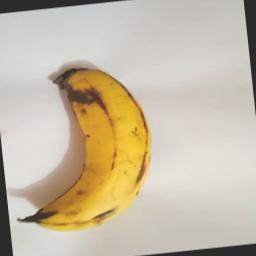Banana Unripe: (4, 60, 158, 237)
